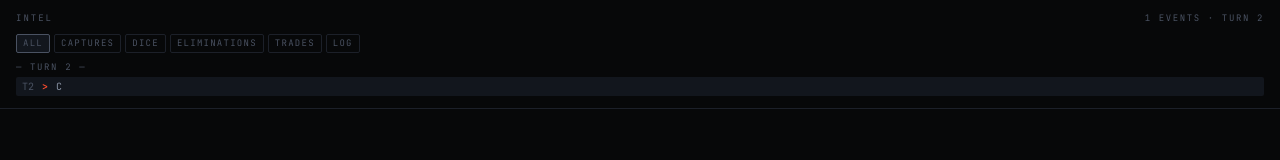
Test: IntelPanel › renders a no-match message when filter excludes everything
This screenshot has width=1280, height=160.
Click the button with aria-label "filter-dice" at (146, 43), box [125, 34, 166, 53]
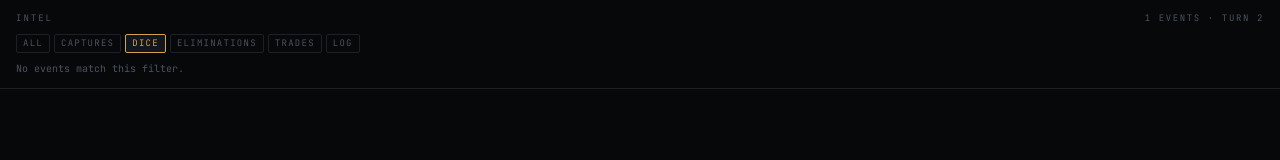
Result: the text "No events match this filter." is shown at [16, 62, 184, 75]
